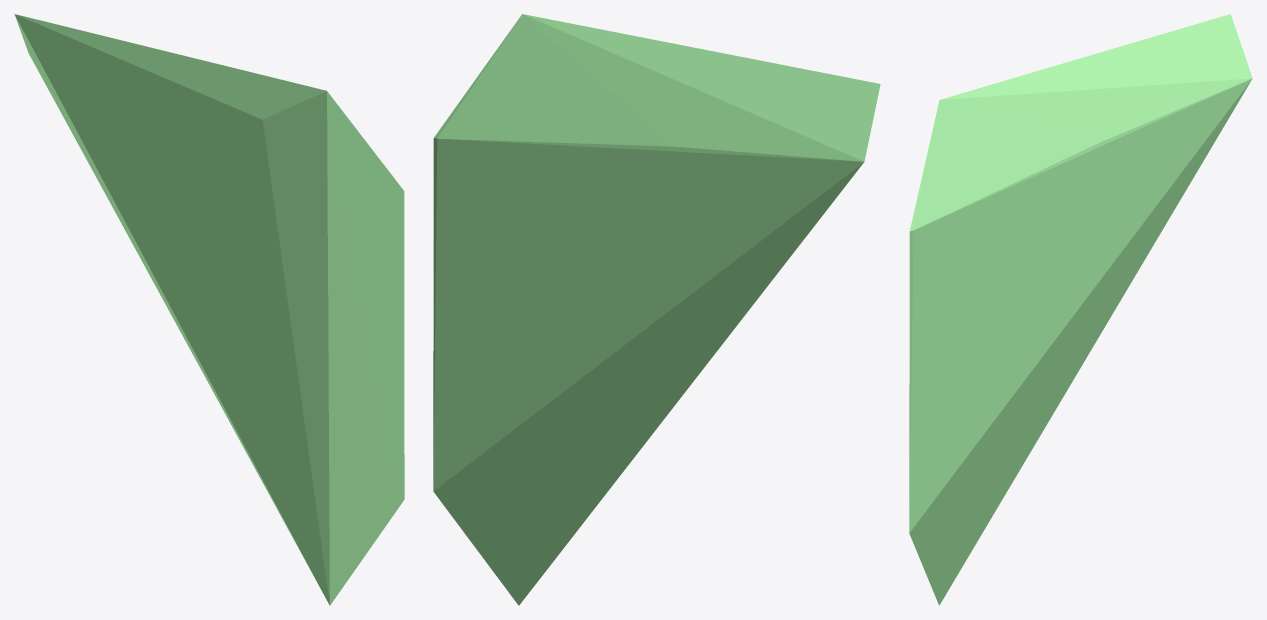
Rendered from linkhou_robot_base_coll_24.dae.
3 views of the same model, side by side, from view 1: azimuth 30°, elevation 25°; view 2: azimuth 210°, elevation 25°; view 3: azimuth 270°, elevation 25° (orthographic). The views are drawn at different scales.
Parts seen in each view (by area): view 1: Node_0000029808433CC0; view 2: Node_0000029808433CC0; view 3: Node_0000029808433CC0.
Boxes of the visible parts, bbox=[...] form: Node_0000029808433CC0: bbox=[14, 14, 404, 605]; Node_0000029808433CC0: bbox=[433, 14, 880, 605]; Node_0000029808433CC0: bbox=[909, 14, 1252, 605].
Bounding box in the file's own units: 0.0244 × 0.0541 × 0.0329.
